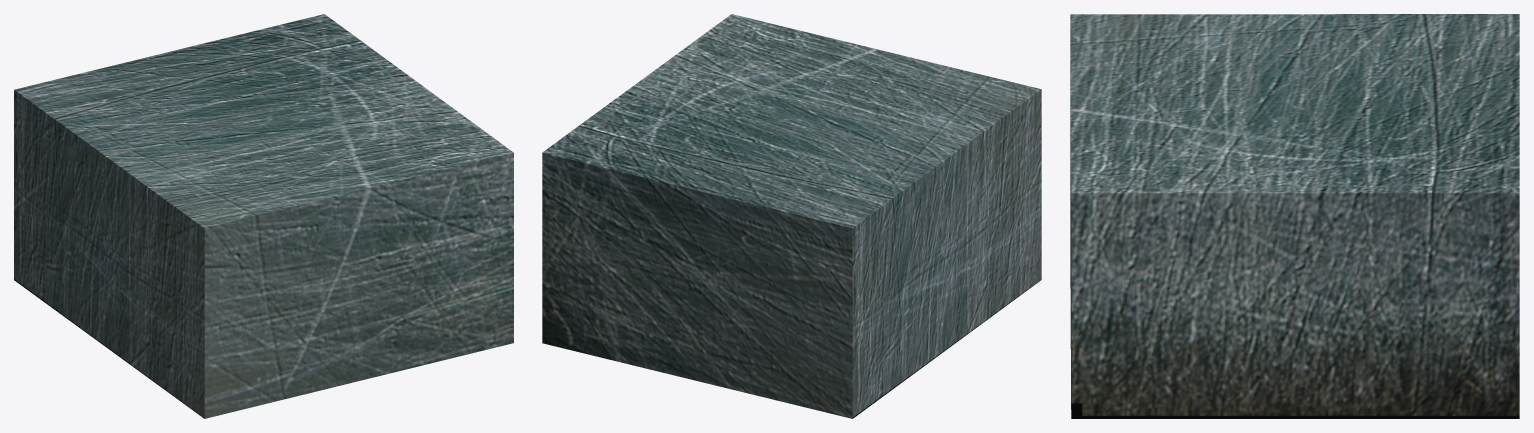
File: wrappedBoxesfixed2.FBX
3 views of the same model, side by side, from view 1: azimuth 30°, elevation 25°; view 2: azimuth 150°, elevation 25°; view 3: azimuth 270°, elevation 25° (orthographic). The views are drawn at different scales.
Parts seen in each view (by area): view 1: polySurface41; view 2: polySurface41; view 3: polySurface41.
Boxes of the visible parts, bbox=[...] form: polySurface41: bbox=[14, 14, 513, 418]; polySurface41: bbox=[542, 14, 1041, 418]; polySurface41: bbox=[1070, 14, 1519, 418].
Size of the model in its own units: 83.73 by 49.12 by 88.68.
